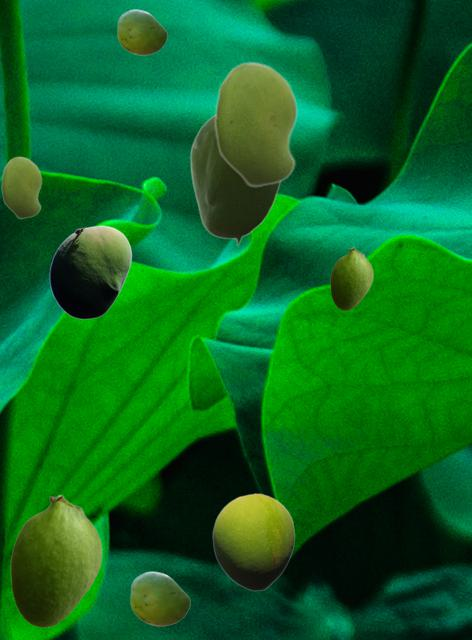green_mango: (10, 494, 101, 626), (189, 115, 280, 245), (214, 61, 297, 187), (212, 493, 294, 590), (49, 225, 131, 318), (130, 571, 189, 625), (330, 247, 372, 309), (1, 156, 41, 218), (117, 9, 166, 54)
